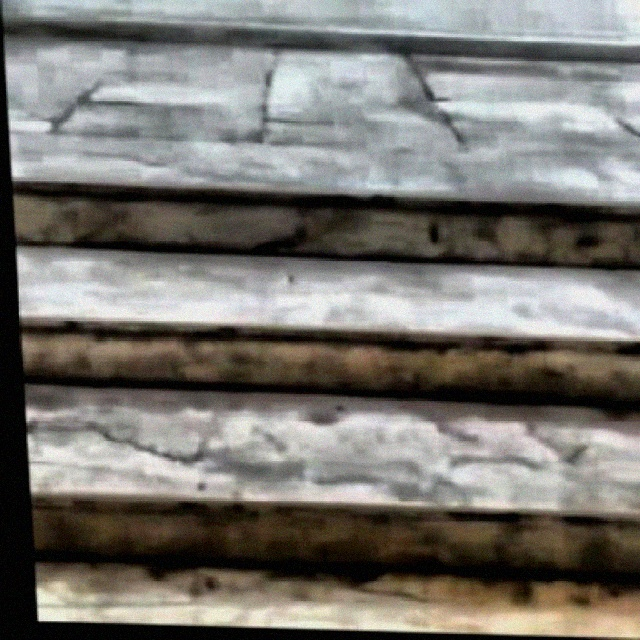stair: (11, 180, 640, 638)
